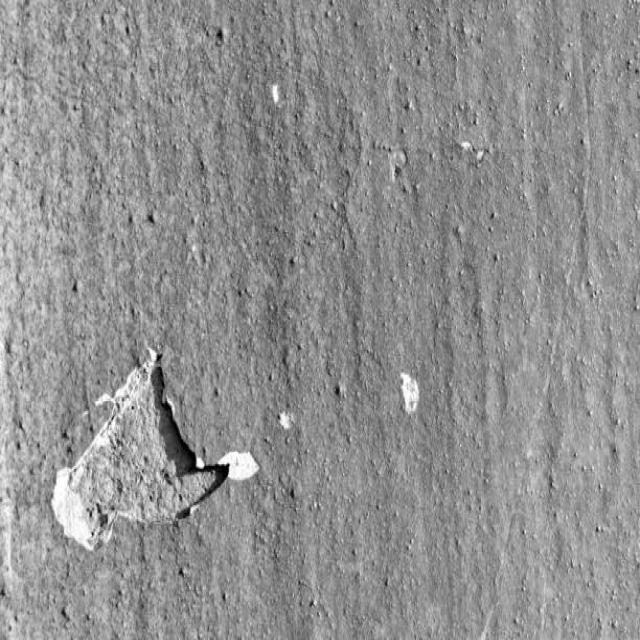peeling paint: (34, 315, 314, 585), (445, 132, 498, 189), (390, 361, 432, 432), (251, 56, 293, 118)
